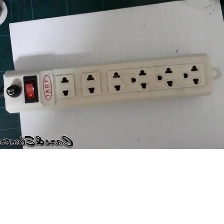three_eye_plug: (1, 49, 217, 115)
